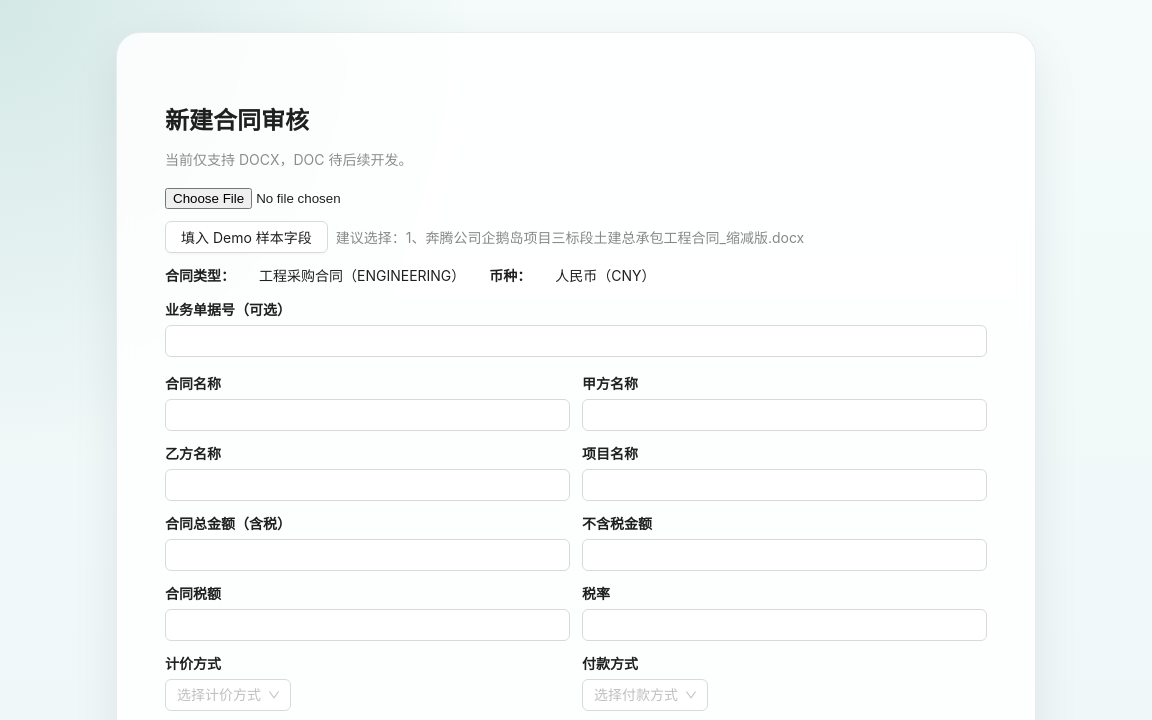
Test: ReviewTaskCreationPage › payment method switching › 4a: MONTHLY shows 5 ratios; MILESTONE shows prepayment+terms, hides 4 ratios
Press the mouse on the element showing "选择付款方式" at (645, 695), box x1=582 y1=679 x2=708 y2=711
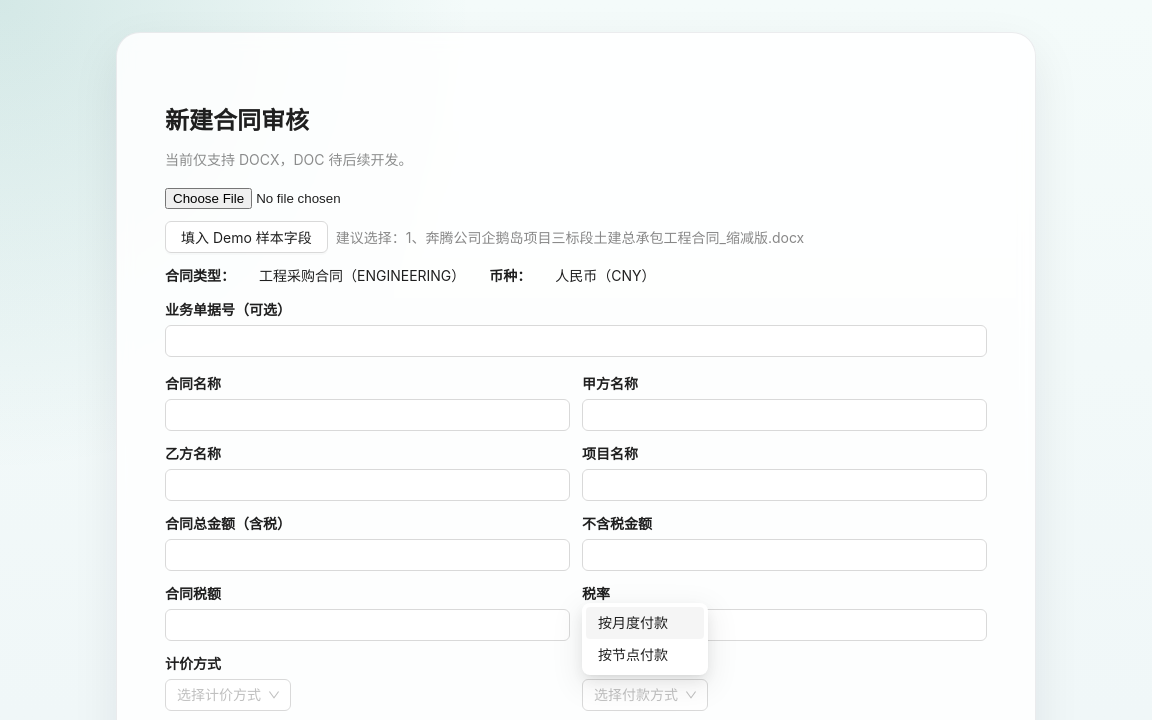
Now the text "按月度付款" is shown
Click the text "按月度付款" at (633, 622), box x1=598 y1=614 x2=668 y2=631
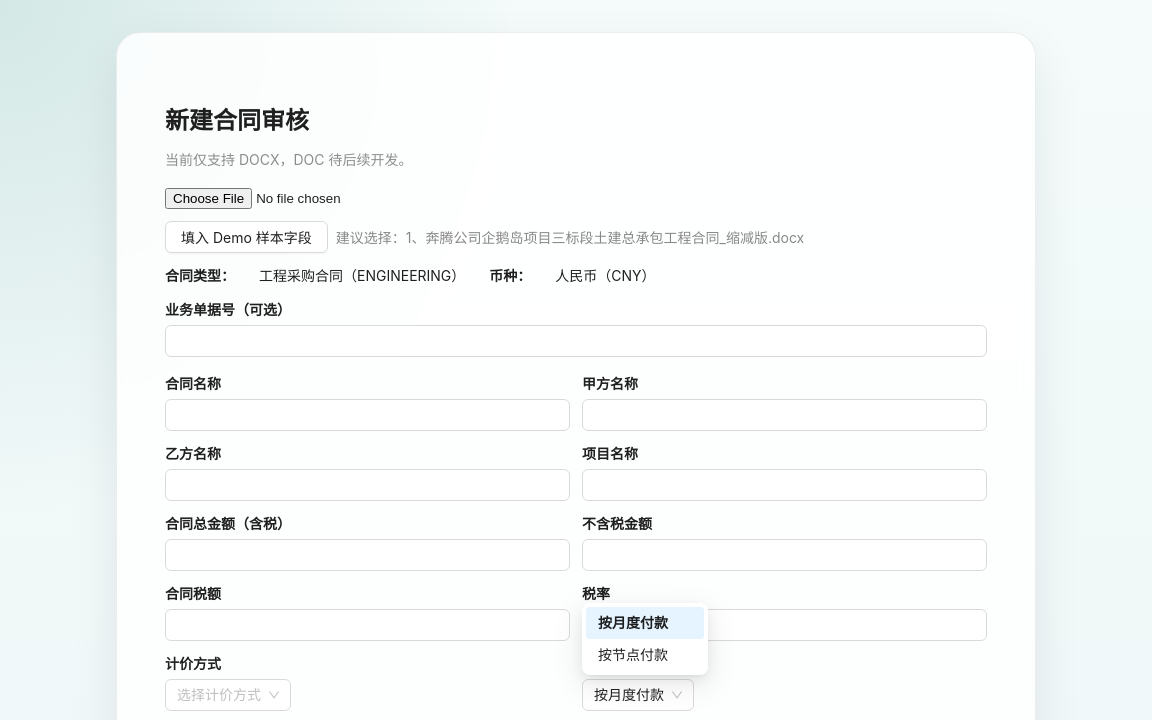
Press the mouse on the element showing "按月度付款" at (638, 695), box x1=582 y1=679 x2=694 y2=711
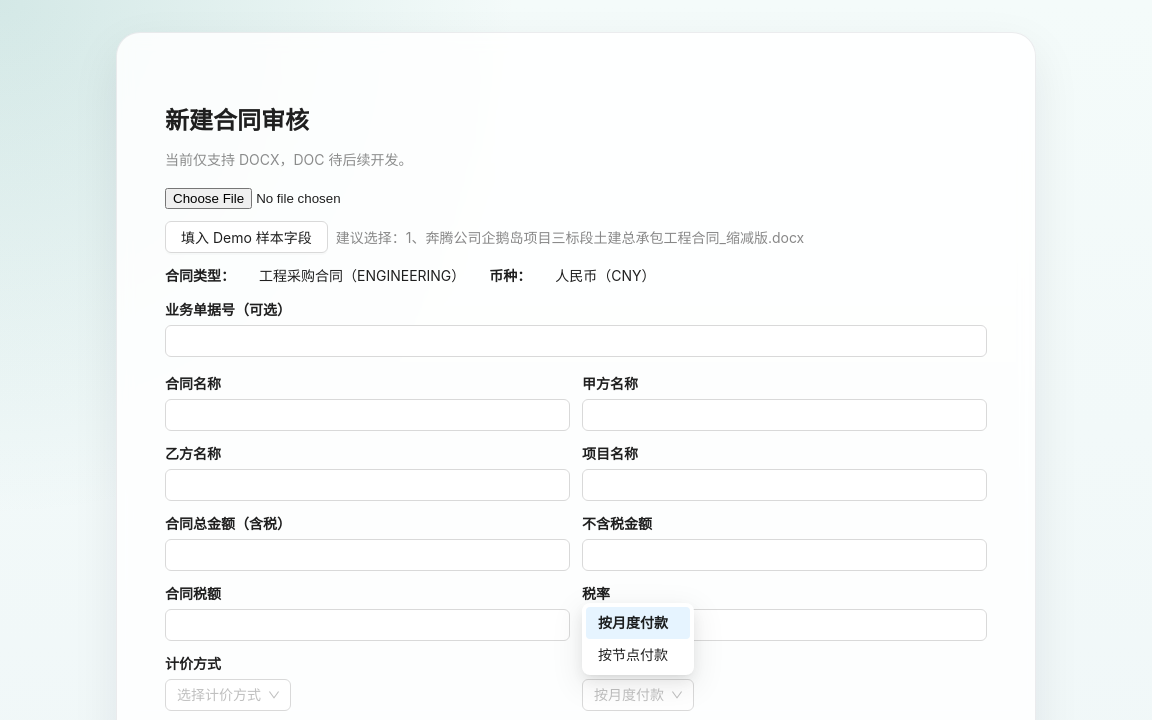
Now the text "按节点付款" is shown
Click the text "按节点付款" at (638, 655), box x1=598 y1=644 x2=678 y2=666
(page scrolled)
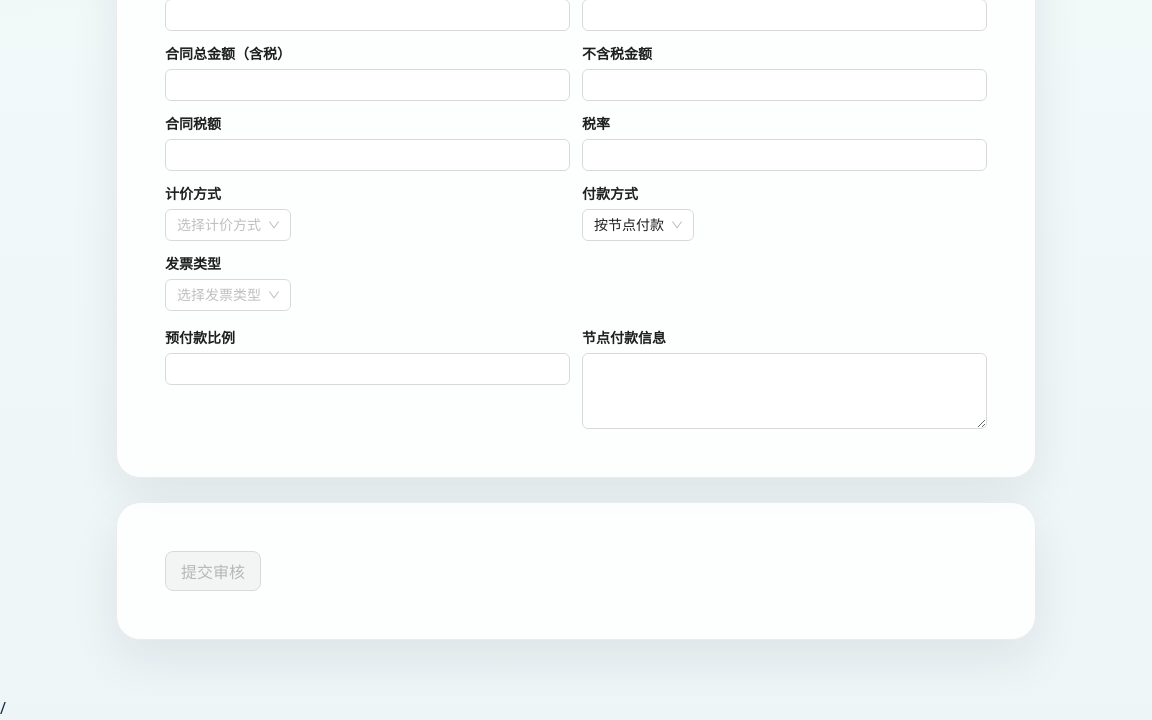
Now the field with test id "field-prepaymentRatio" is shown, box x1=165 y1=353 x2=570 y2=385
Now the text box with test id "field-milestonePaymentTerms" is shown, box x1=582 y1=353 x2=987 y2=429
